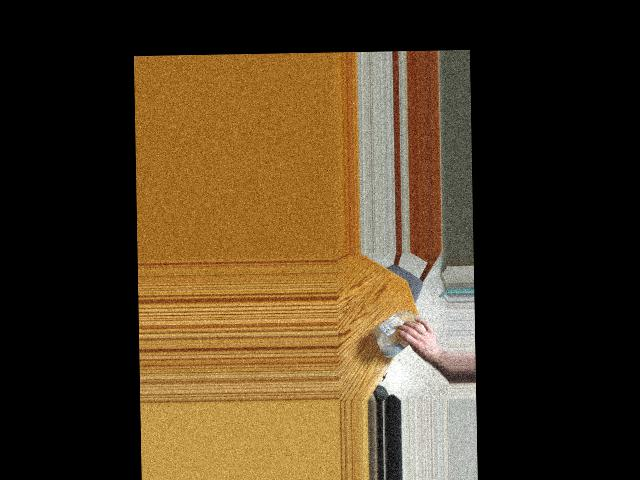cheese: (373, 308, 430, 355)
